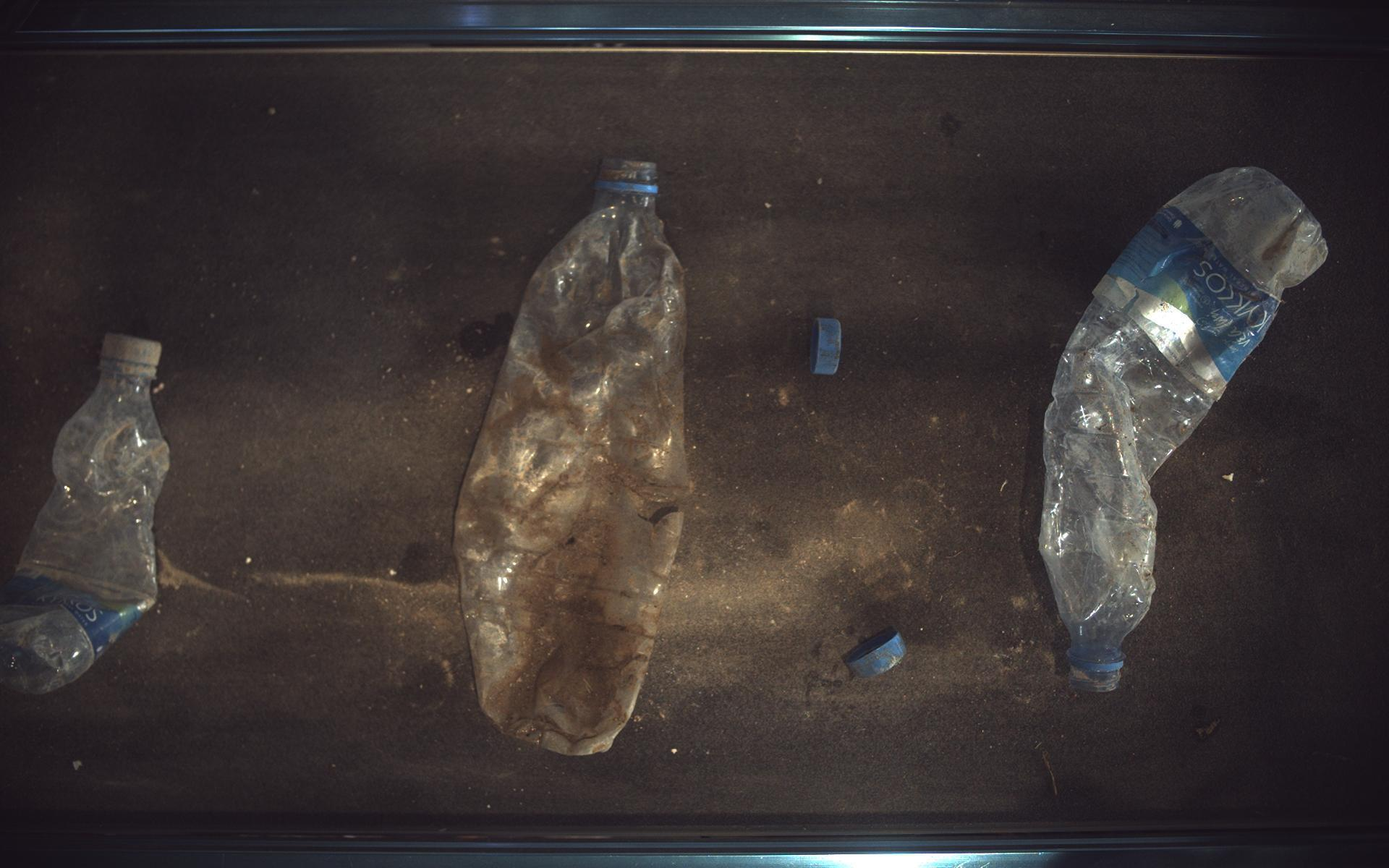general_w: (1042, 166, 1330, 693), (454, 158, 692, 757), (844, 627, 909, 679), (812, 318, 842, 375)
